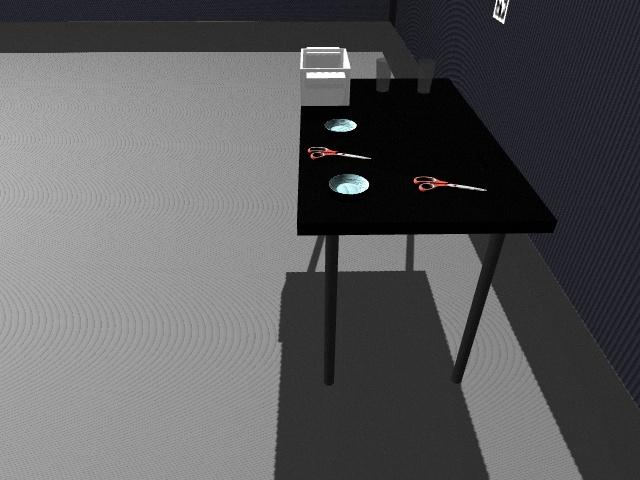cup: (416, 58, 436, 94), (375, 56, 392, 94)
plate: (328, 173, 370, 195), (324, 118, 358, 133)
scissors: (413, 175, 485, 194), (307, 146, 369, 161)
